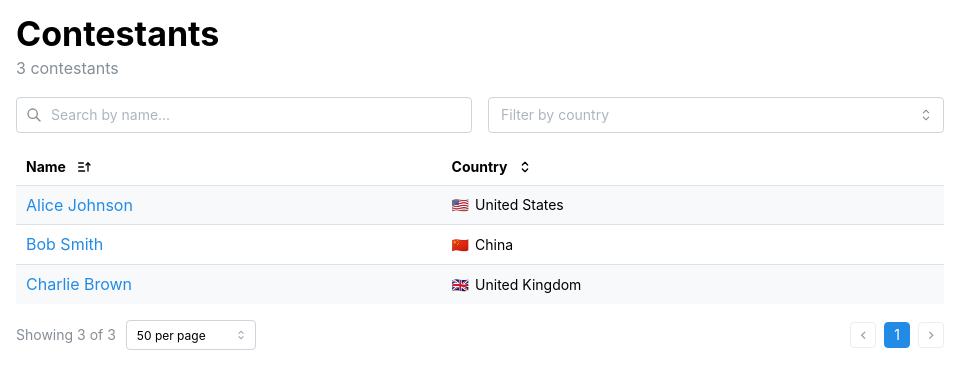
Test case: Contestants › column sorting › allows clicking on Name header to sort
Click the text "Name" at (59, 166), box [26,158,92,175]
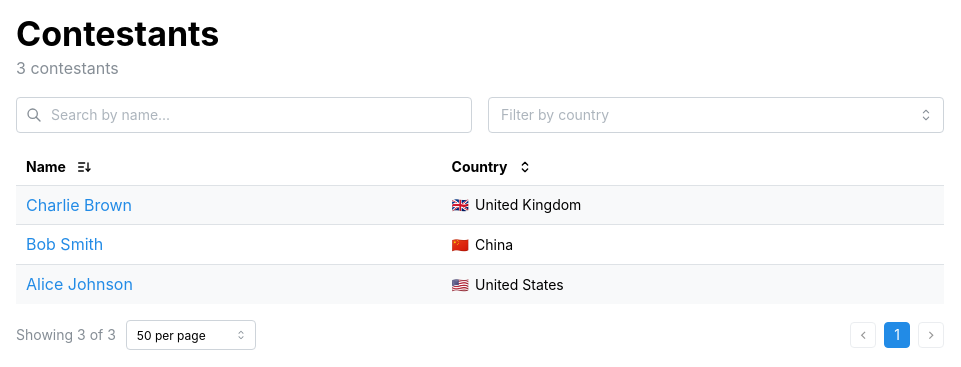
Check: the link "Bob Smith" is shown, box [26,234,103,254]
Check: the link "Alice Johnson" is shown, box [26,274,133,294]
